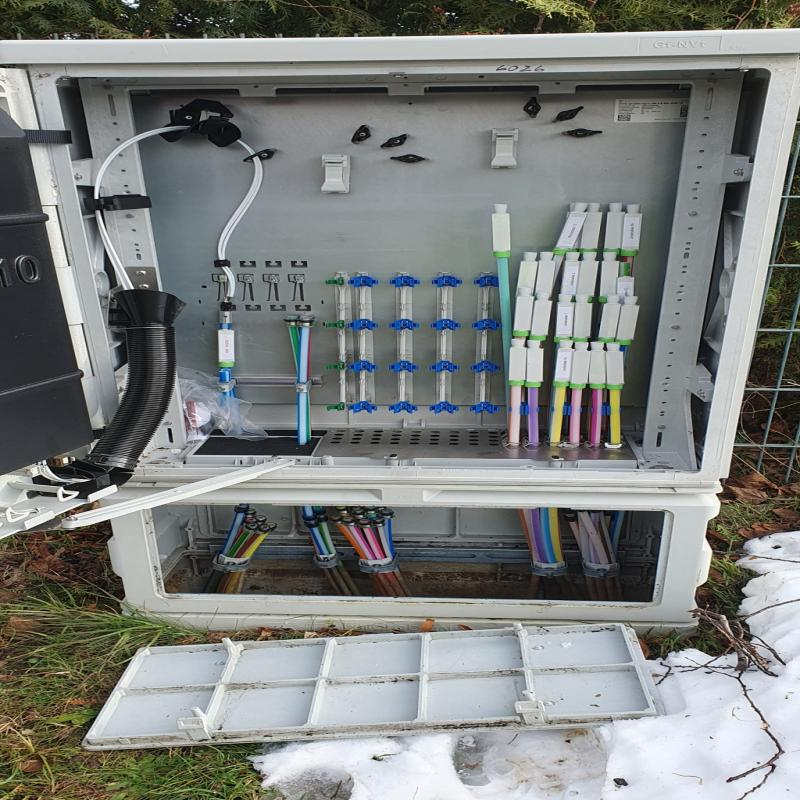NT-Gehause: (8, 31, 788, 617)
